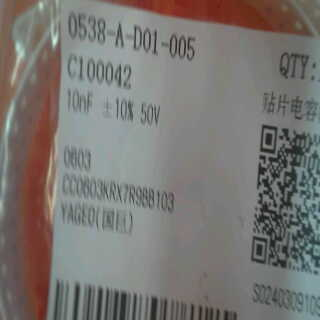10nF: (65, 90, 102, 112)
